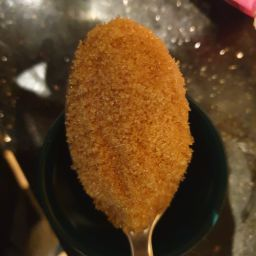Brown Sugar: (46, 17, 208, 234), (86, 40, 155, 181), (100, 63, 170, 189), (72, 109, 183, 164)
